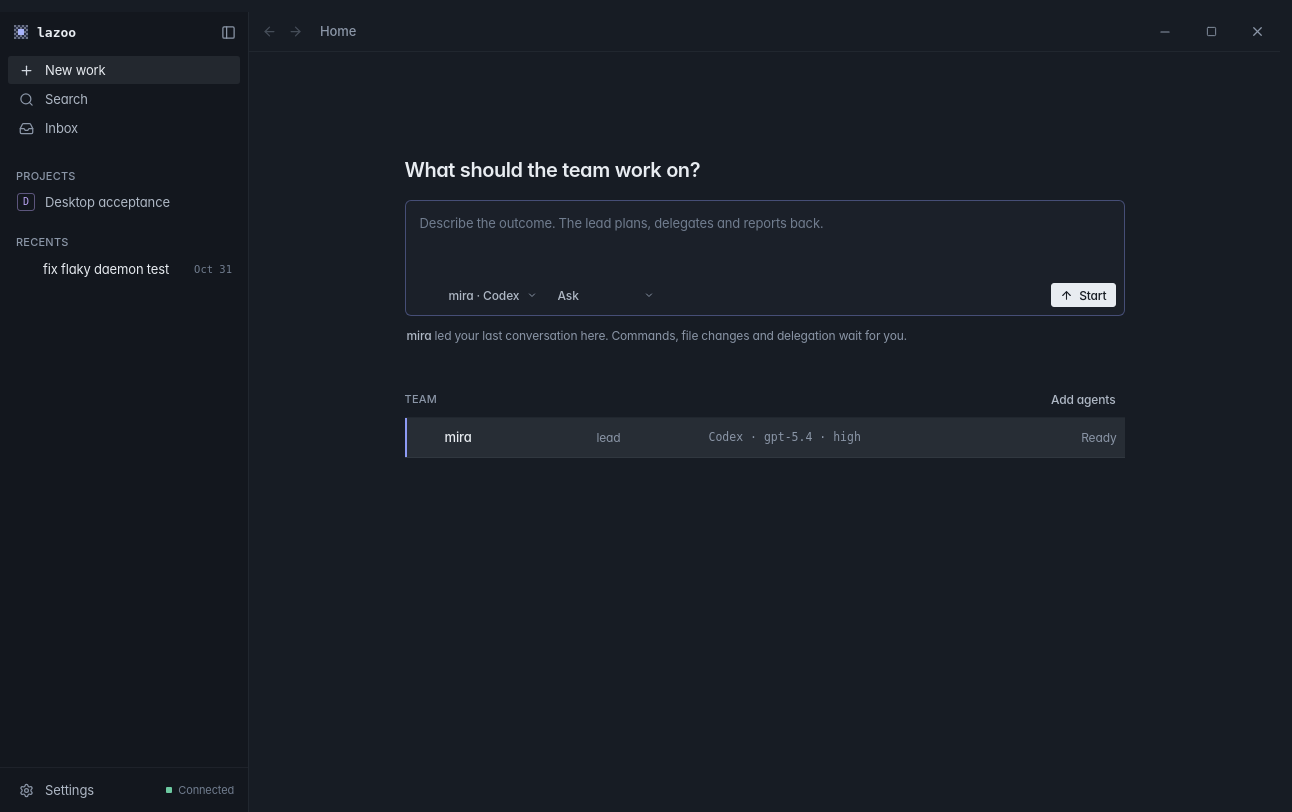
conversation › the native pane states the daemon's reason when no view is possible
Click the text "fix flaky daemon test" at (114, 269), box [43,260,185,278]
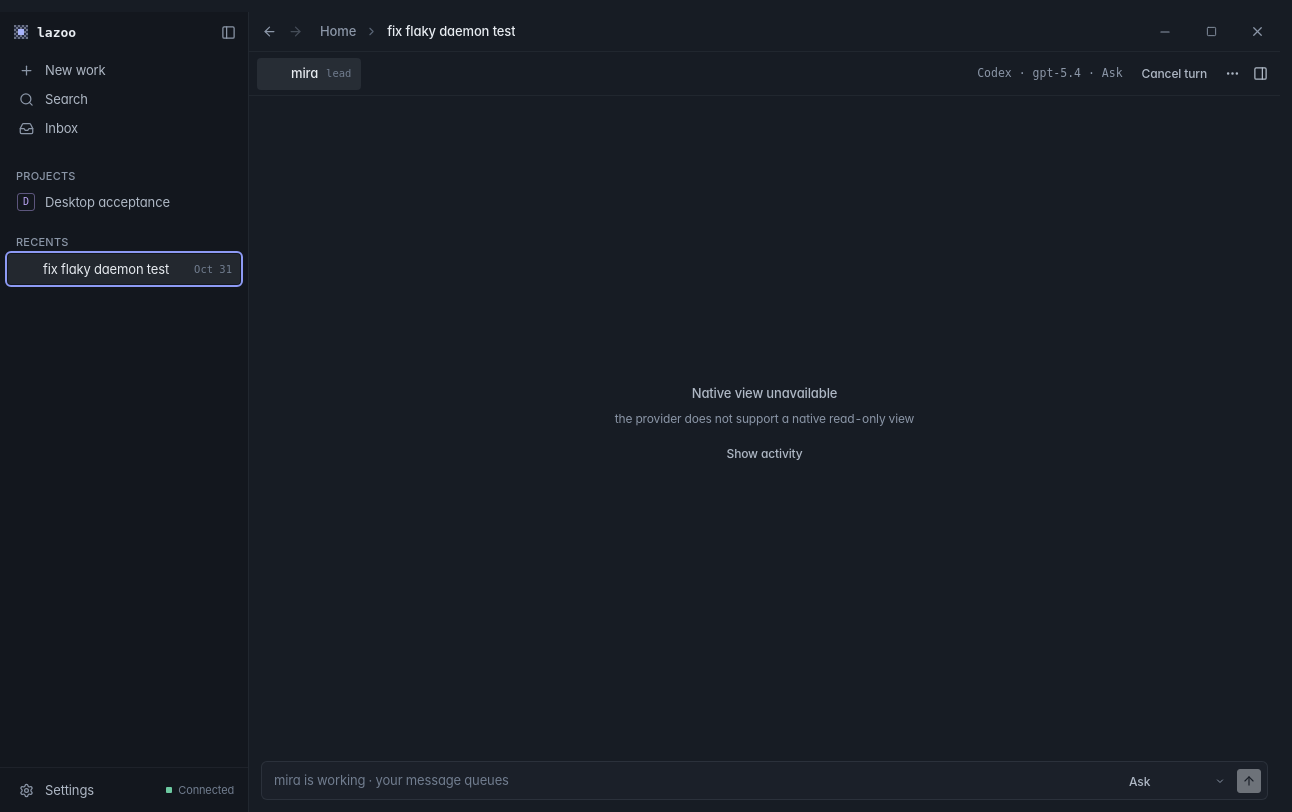
Now the text "Native view unavailable" is shown, box [692,384,837,402]
Now the text "the provider does not support a native read-only view" is shown, box [615,408,914,428]
